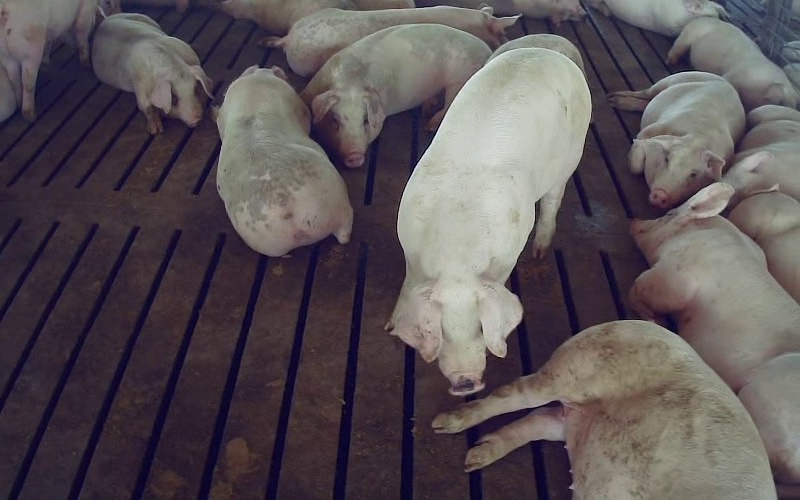pig: (432, 321, 775, 499), (629, 182, 799, 391), (216, 66, 352, 256), (608, 71, 745, 208), (264, 6, 517, 76), (92, 13, 211, 134), (667, 17, 799, 110), (722, 105, 799, 205), (589, 0, 724, 36)
